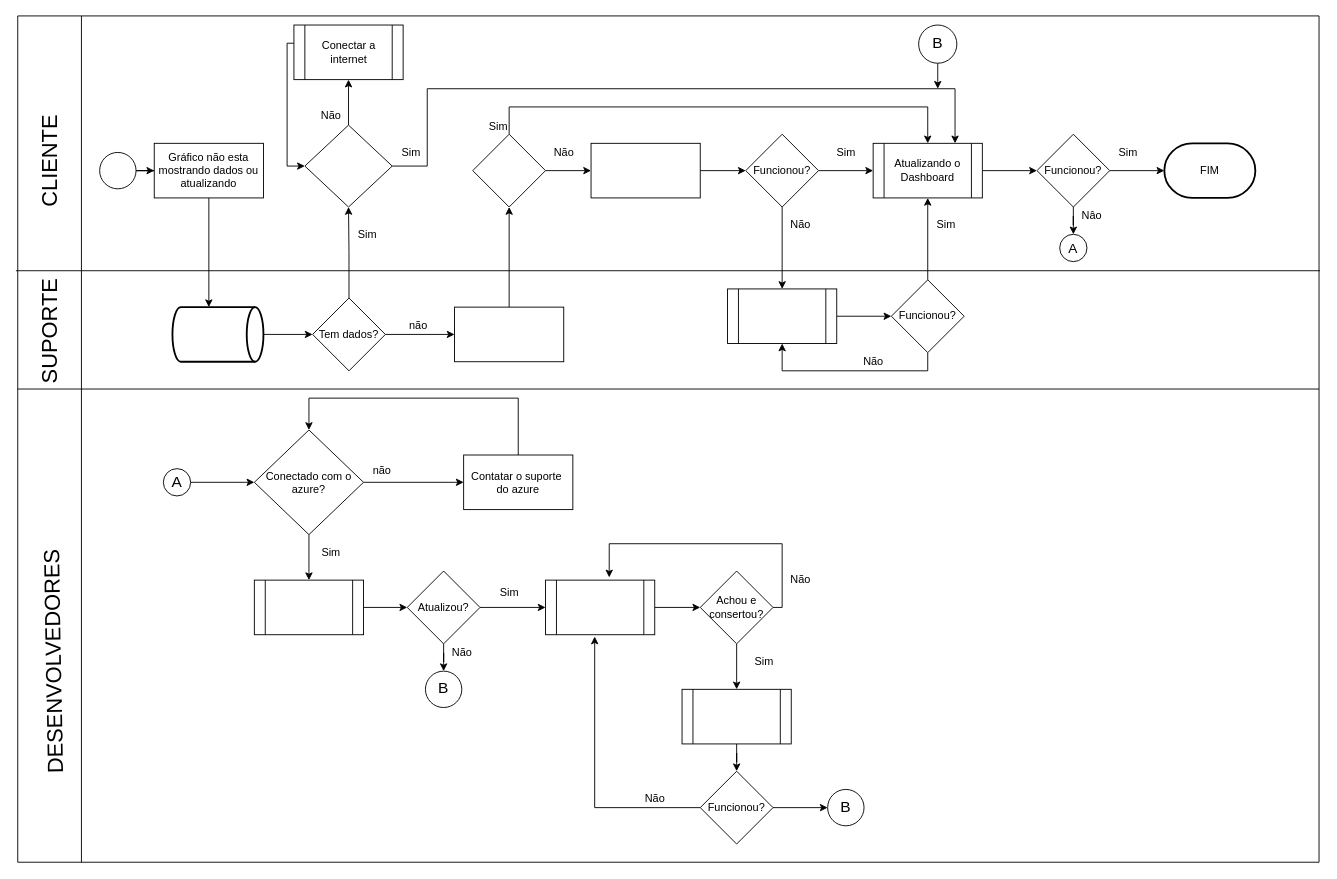
This 1337x879 diagram has some shape labels left out. The centre of each missing label's shape, as x and y in pixels:
"verificar o Arduino": (509,334)
Arduino ligado?: (509,170)
Conectado a internet?: (348,165)
Ligar em uma fonte de energia: (645,170)
Testar: (736,716)
Trocar o arduino: (782,316)
Verificar: (217,334)
Verificar atualzações no sistema: (308,607)
Verificar o sistema e procurar o erro: (600,607)
